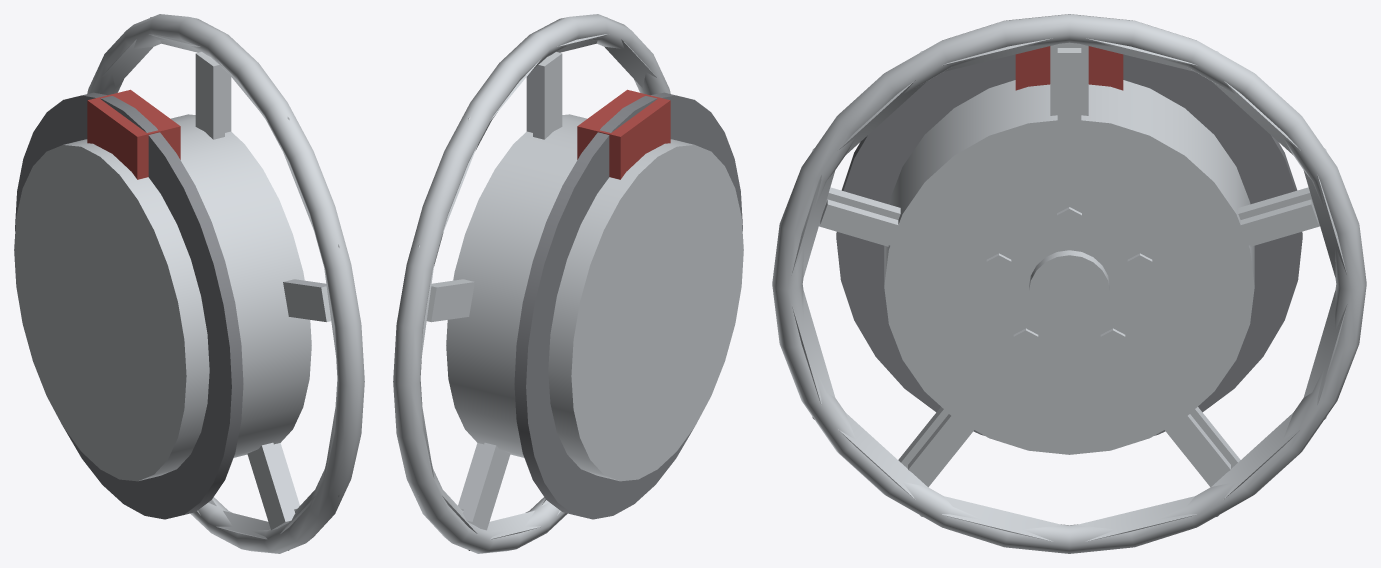
Rendered from wh-five.glb.
3 renders of one model, left to right at view 1: azimuth 30°, elevation 25°; view 2: azimuth 150°, elevation 25°; view 3: azimuth 270°, elevation 25°, orthographic. The views are drawn at different scales.
Parts seen in each view (by area): view 1: Chrome.001, Chrome.002, Rotor, Caliper, ChromeLOD, Chrome.007, Chrome.005, Chrome.006, ChromeLOD.004; view 2: Chrome.001, Chrome.002, Rotor, Caliper, ChromeLOD, Chrome.008, Chrome.005, Chrome.009, ChromeLOD.005; view 3: Chrome.001, Chrome.002, Rotor, ChromeLOD, Chrome.004, ChromeLOD.004, ChromeLOD.006, ChromeLOD.002, ChromeLOD.005, ChromeLOD.003, Caliper, Chrome.005 (+4 smaller).
Part boxes in pixels (x1,y1,x2,y2): Chrome.001: (14, 114, 311, 481); Chrome.002: (87, 14, 364, 553); Rotor: (15, 92, 243, 519); Caliper: (87, 89, 180, 179); ChromeLOD: (101, 17, 339, 550); Chrome.007: (247, 442, 295, 530); Chrome.005: (195, 52, 224, 139); Chrome.006: (283, 279, 331, 322); ChromeLOD.004: (274, 443, 299, 510); Chrome.001: (446, 114, 743, 481); Chrome.002: (393, 14, 670, 553); Rotor: (514, 92, 742, 519); Caliper: (577, 89, 670, 179); ChromeLOD: (418, 17, 656, 550); Chrome.008: (462, 442, 510, 530); Chrome.005: (533, 52, 562, 139); Chrome.009: (426, 279, 474, 322); ChromeLOD.005: (458, 443, 483, 510); Chrome.001: (884, 80, 1254, 454); Chrome.002: (772, 14, 1366, 553); Rotor: (836, 54, 1302, 435); ChromeLOD: (791, 38, 1347, 541); Chrome.004: (1029, 250, 1109, 328); ChromeLOD.004: (908, 324, 1043, 482); ChromeLOD.006: (1123, 199, 1318, 279); ChromeLOD.002: (1057, 48, 1081, 232); ChromeLOD.005: (1100, 324, 1230, 482); ChromeLOD.003: (820, 199, 1014, 280); Caliper: (1015, 46, 1123, 90); Chrome.005: (1050, 42, 1088, 115).
Size of the model in its own units: 0.14 by 0.4976 by 0.4976.
